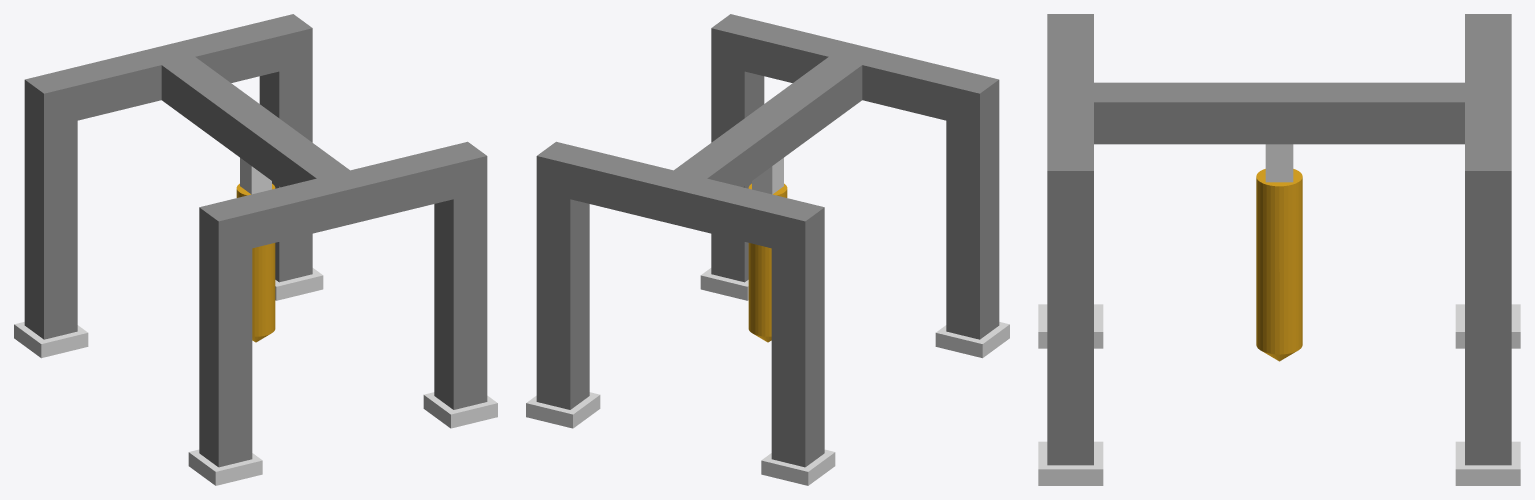
File: drill.fbx
The picture shows the model from 3 angles, left to right: view 1: azimuth 30°, elevation 25°; view 2: azimuth 150°, elevation 25°; view 3: azimuth 270°, elevation 25°; orthographic projection. The views are drawn at different scales.
Parts seen in each view (by area): view 1: Top, Leg.003, Leg.002, Leg.004, Leg.001, Drill, Cube; view 2: Top, Leg.002, Leg.003, Leg.001, Leg.004, Drill, Cube; view 3: Top, Leg.004, Leg.001, Drill, Cube, Leg.002, Leg.003.
Boxes of the visible parts, <box> form: Top: <box>24,14,487,256</box>; Leg.003: <box>14,115,88,358</box>; Leg.002: <box>188,243,262,485</box>; Leg.004: <box>423,191,497,428</box>; Leg.001: <box>259,63,323,300</box>; Drill: <box>236,183,275,342</box>; Cube: <box>240,158,271,194</box>; Top: <box>536,14,999,256</box>; Leg.002: <box>935,115,1009,358</box>; Leg.003: <box>761,243,835,485</box>; Leg.001: <box>526,191,600,428</box>; Leg.004: <box>700,63,764,300</box>; Drill: <box>748,183,787,342</box>; Cube: <box>752,158,783,194</box>; Top: <box>1047,14,1511,212</box>; Leg.004: <box>1038,213,1103,485</box>; Leg.001: <box>1455,213,1520,485</box>; Drill: <box>1256,169,1302,361</box>; Cube: <box>1265,144,1293,182</box>; Leg.002: <box>1038,304,1103,348</box>; Leg.003: <box>1455,304,1520,348</box>.
Bounding box in the file's own units: 420 × 370 × 520.
